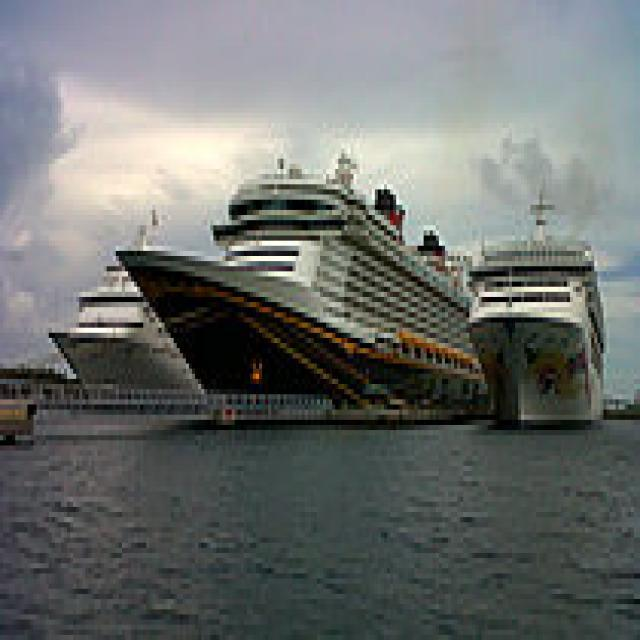Ship: (114, 150, 501, 432), (455, 186, 629, 437)
